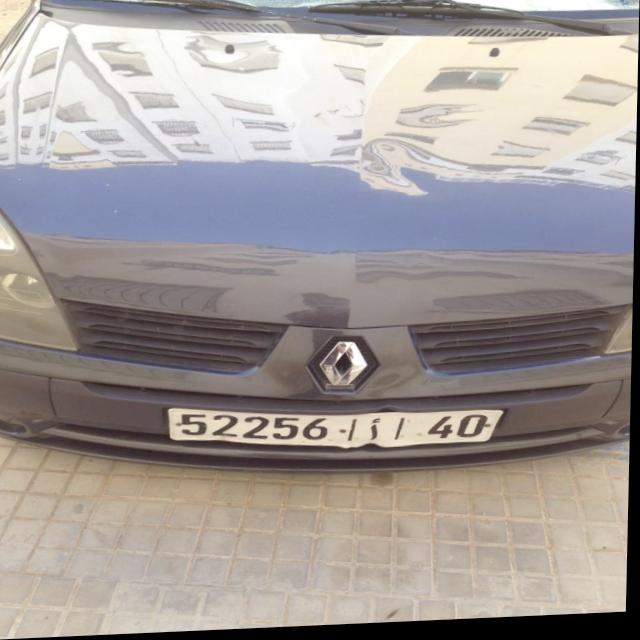License-Plate: (169, 410, 504, 451)
